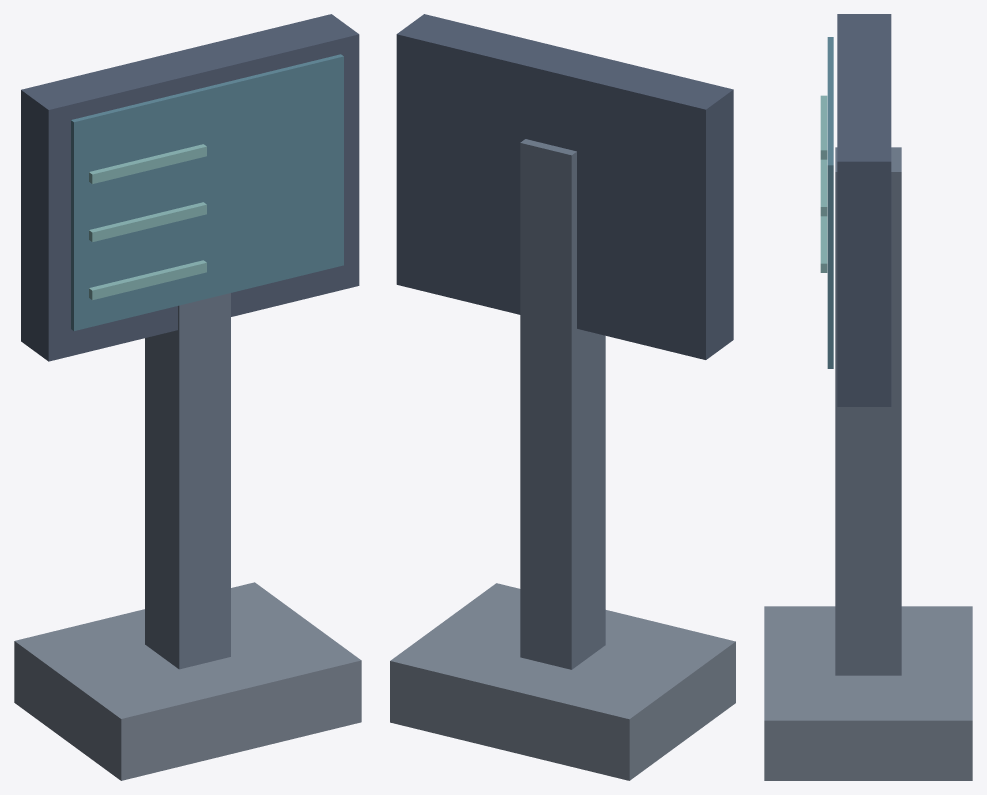
Rendered from floor_kiosk.glb.
3 views of the same model, side by side, from view 1: azimuth 30°, elevation 25°; view 2: azimuth 150°, elevation 25°; view 3: azimuth 270°, elevation 25° (orthographic). The views are drawn at different scales.
Visible parts, largest first — view 1: world; view 2: world; view 3: world.
Part boxes in pixels (x1,y1,x2,y2): world: [14, 14, 361, 780]; world: [390, 14, 735, 780]; world: [764, 14, 972, 780].
Bounding box in the file's own units: 0.84 × 1.69 × 0.5.
